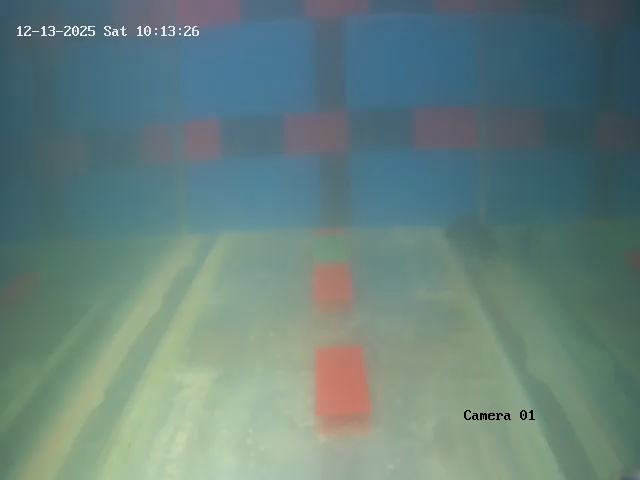fish: (439, 208, 502, 282)
